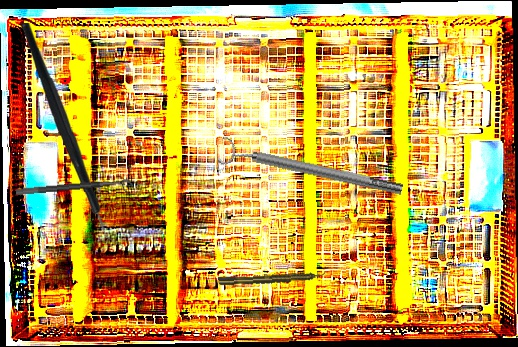Chopper: (18, 21, 127, 249)
Fixation Ring: (217, 134, 405, 206), (15, 177, 134, 206)
Handpiece: (218, 270, 326, 287)
